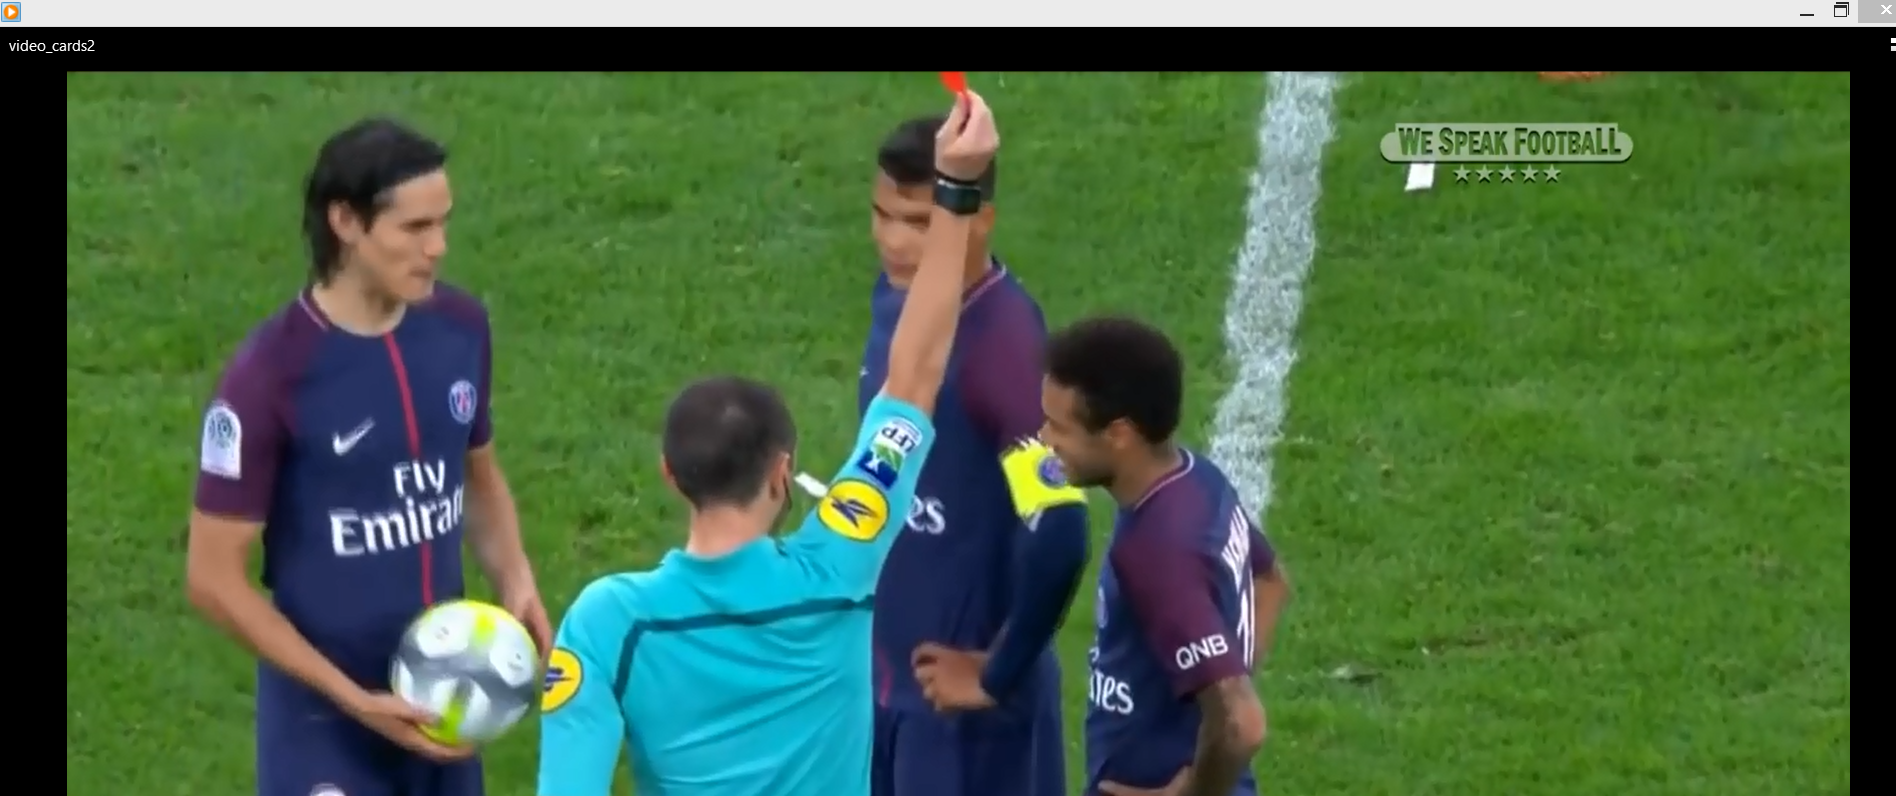red_card: (925, 70, 1002, 180)
